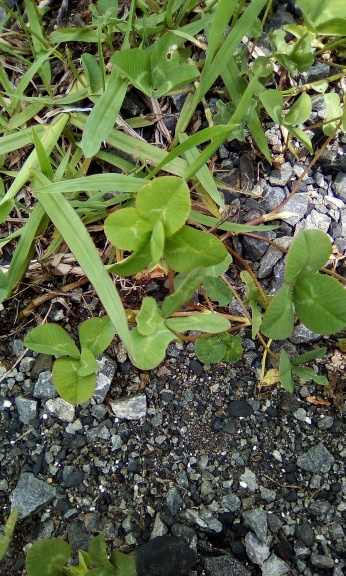4leaf: (102, 174, 228, 278), (126, 268, 231, 371), (22, 314, 117, 405)
